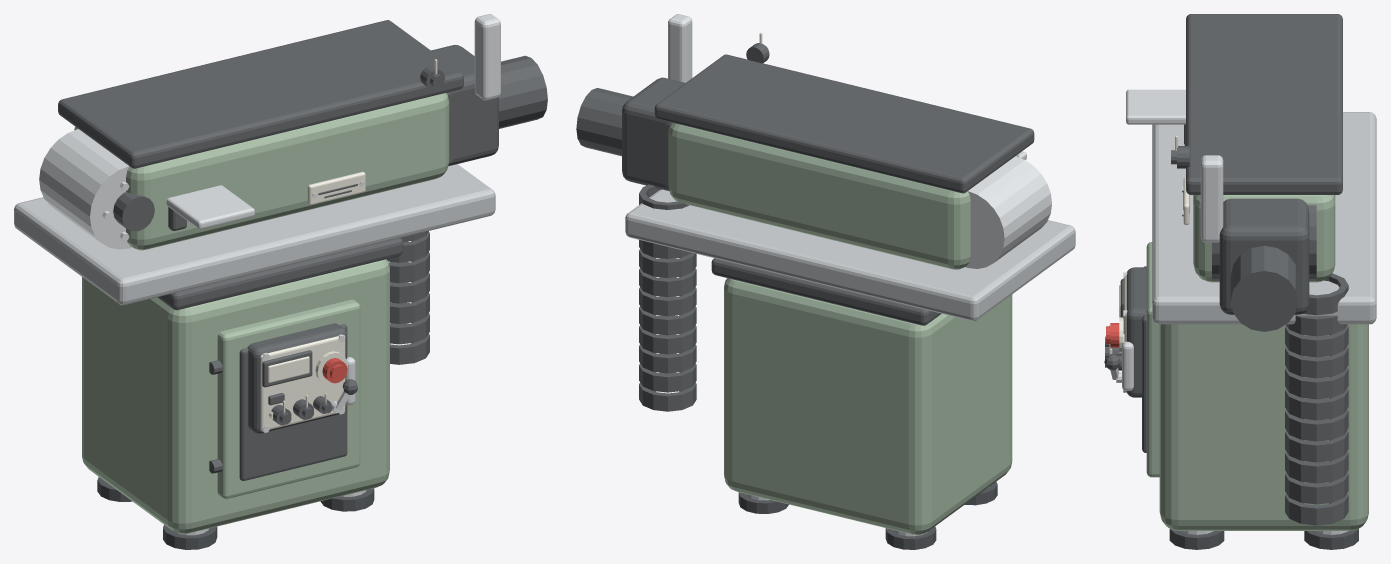
The model's file is linisher-belt-sander-on-a-stand.glb.
3 views of the same model, side by side, from view 1: azimuth 30°, elevation 25°; view 2: azimuth 150°, elevation 25°; view 3: azimuth 270°, elevation 25° (orthographic). The views are drawn at different scales.
Parts seen in each view (by area): view 1: machine-shop-and-factory-hall-belt-sander, drum-spin/steel, drum-spin/charcoal; view 2: machine-shop-and-factory-hall-belt-sander, drum-spin/steel; view 3: machine-shop-and-factory-hall-belt-sander.
Boxes of the visible parts, x1,y1,x2,y2 form: machine-shop-and-factory-hall-belt-sander: (14, 14, 547, 549); drum-spin/steel: (39, 129, 131, 249); drum-spin/charcoal: (113, 192, 154, 231); machine-shop-and-factory-hall-belt-sander: (576, 14, 1075, 549); drum-spin/steel: (965, 156, 1051, 268); machine-shop-and-factory-hall-belt-sander: (1104, 14, 1376, 549).
Bounding box in the file's own units: 1.49 × 1.34 × 0.728.
